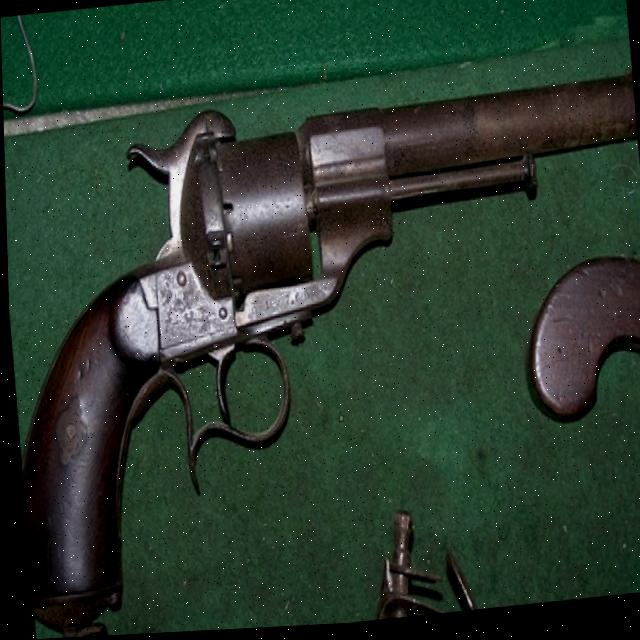pistol: (2, 67, 640, 640)
